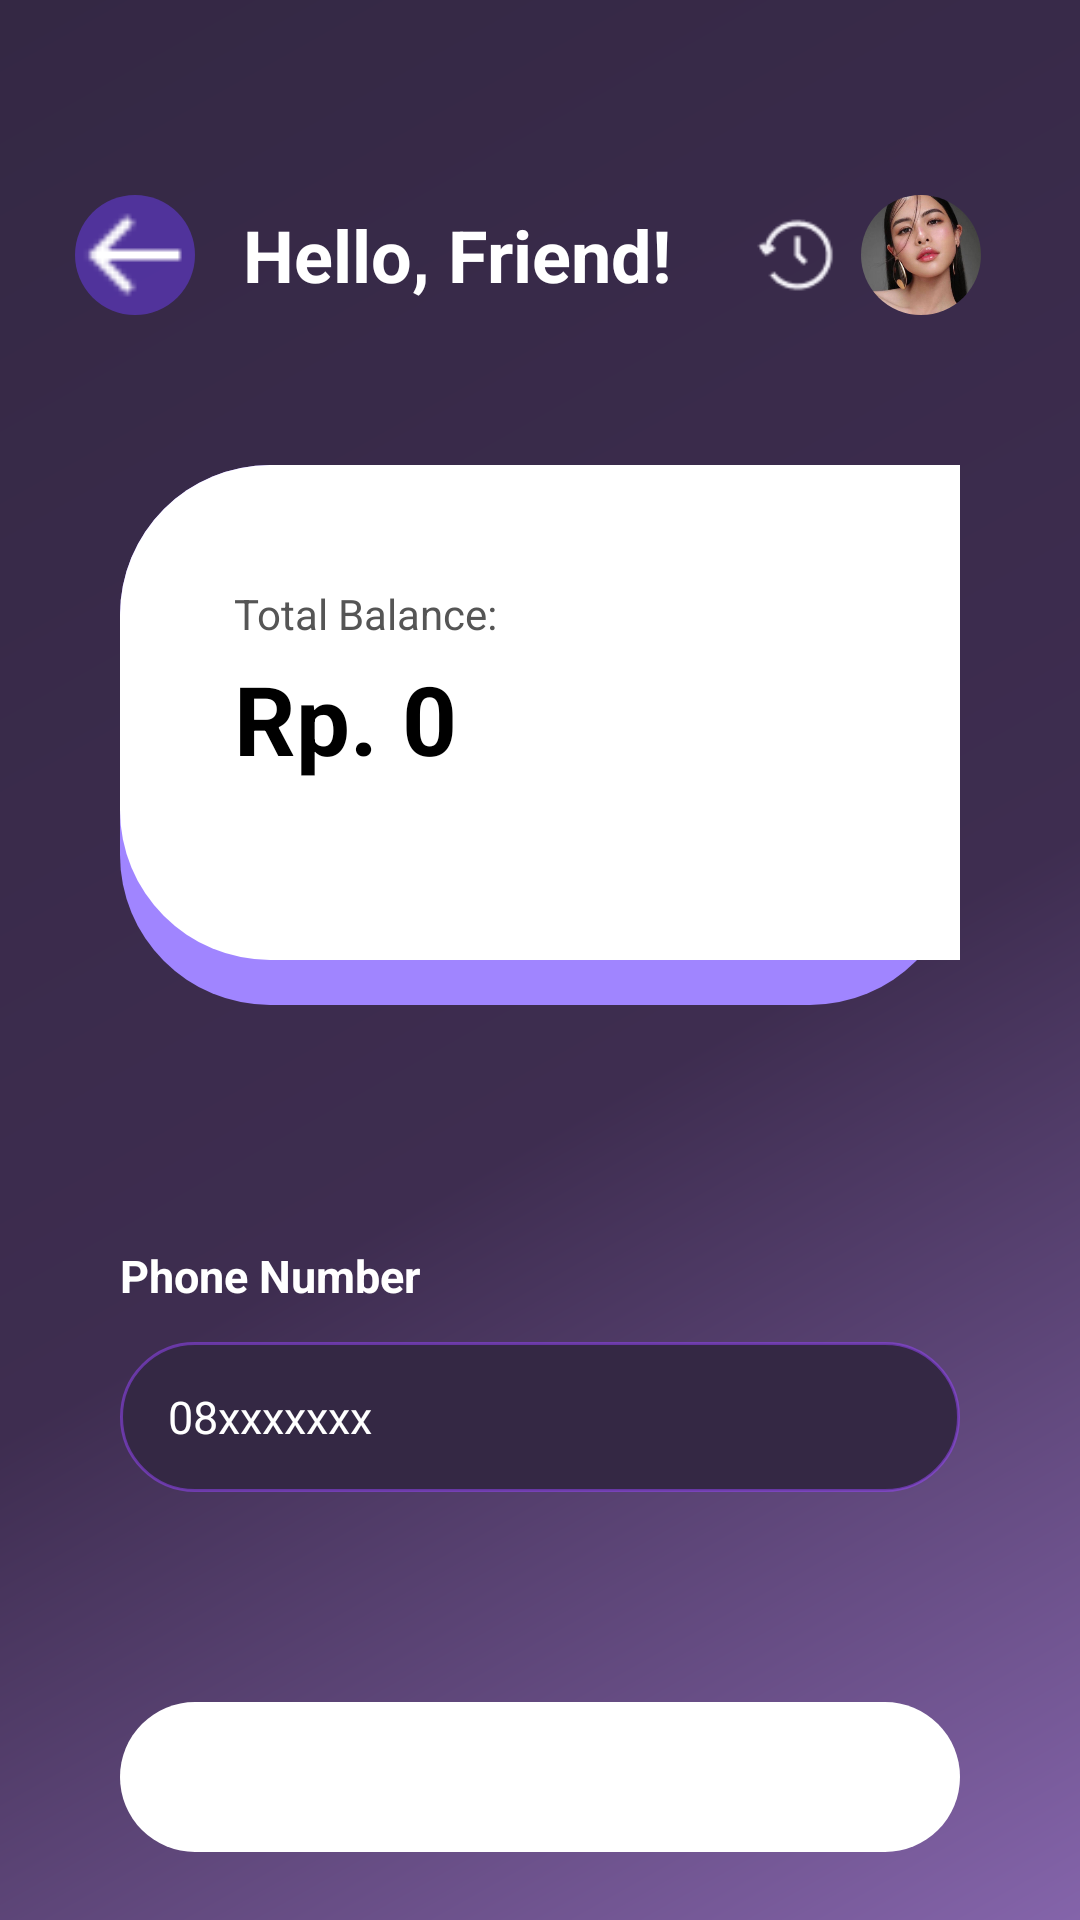

Icon bounding boxes for this 1080px×1920px phone screenshot, format (x1, y1, x2, y2):
arrow back: (75, 195, 195, 315)
history: (758, 219, 833, 291)
